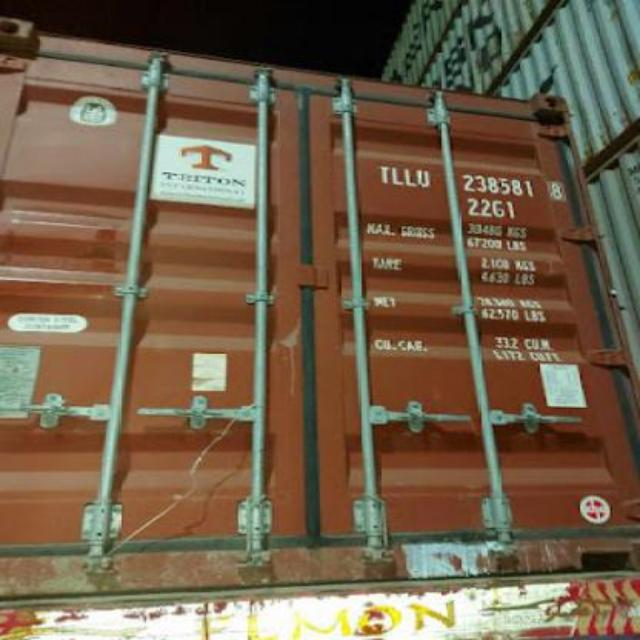1: (522, 172, 536, 198)
2: (458, 164, 474, 192)
3: (474, 167, 488, 197)
5: (500, 170, 510, 200)
8: (548, 174, 570, 203), (512, 168, 524, 202), (490, 167, 500, 197)
L: (402, 160, 418, 190), (392, 162, 406, 190)
T: (376, 160, 392, 186)
U: (416, 164, 432, 192)
